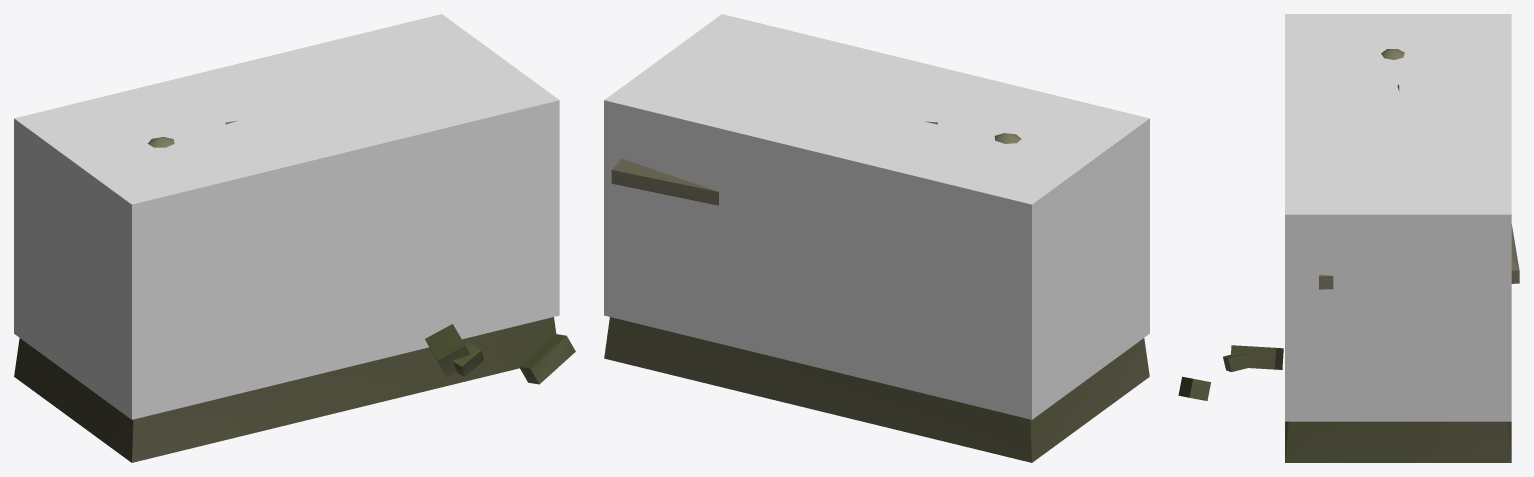
The model's file is sarcophagus.glb.
The picture shows the model from 3 angles, left to right: view 1: azimuth 30°, elevation 25°; view 2: azimuth 150°, elevation 25°; view 3: azimuth 270°, elevation 25°; orthographic projection. The views are drawn at different scales.
Visible parts, largest first — view 1: COL_tomb, sarcophagus; view 2: COL_tomb, sarcophagus; view 3: COL_tomb, sarcophagus.
Part boxes in pixels (box(x1,y1,x2,y2)): COL_tomb: box(14, 14, 559, 419); sarcophagus: box(14, 120, 575, 462); COL_tomb: box(604, 14, 1149, 419); sarcophagus: box(604, 121, 1149, 462); COL_tomb: box(1285, 14, 1511, 421); sarcophagus: box(1178, 49, 1519, 462).
Bounding box in the file's own units: 2.61 × 1.53 × 1.87.
